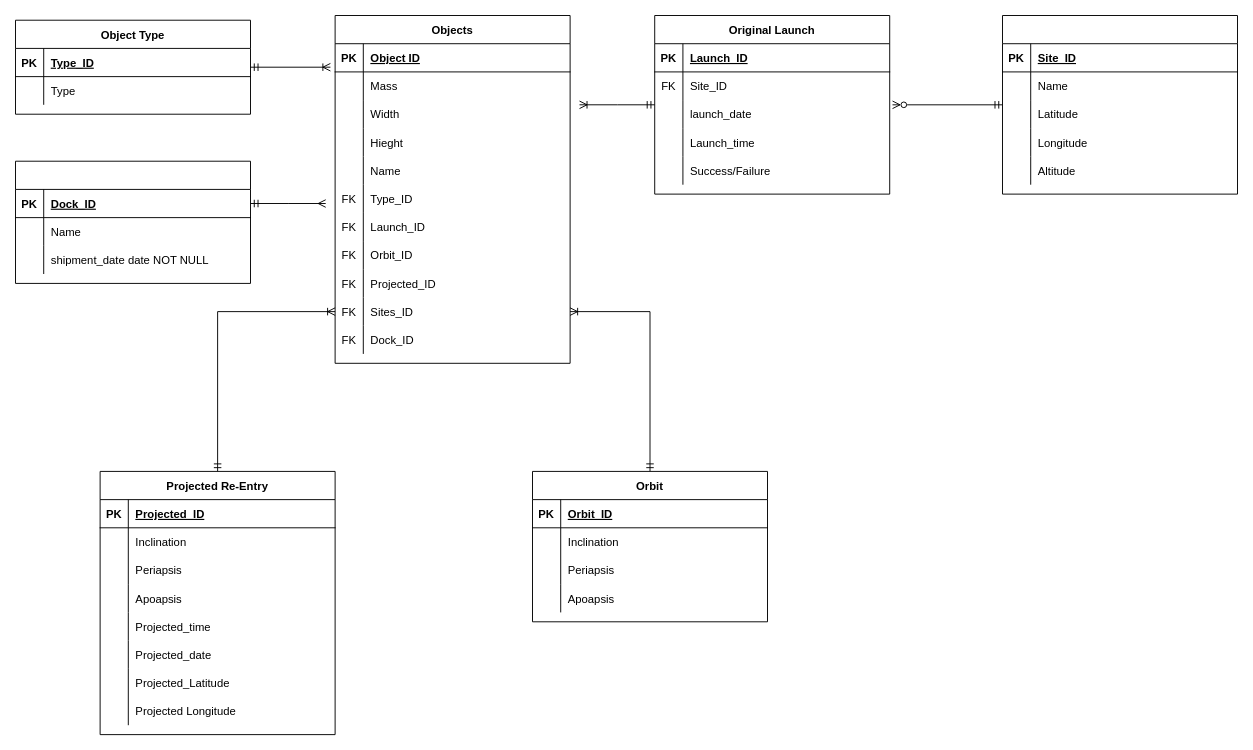
The diagram is 1253 pixels wide and 750 high, and some of its shapes have lost their labels. Here are the shapes that lost their labels. From the top down, the box of each, then its label:
(1002, 15, 1238, 194): Launch Sites
(15, 160, 251, 283): Docked Objects
